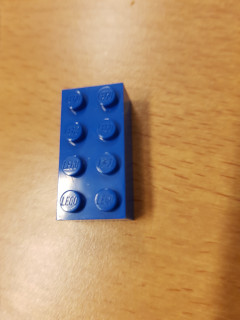2x4 blue: (53, 81, 137, 222)
